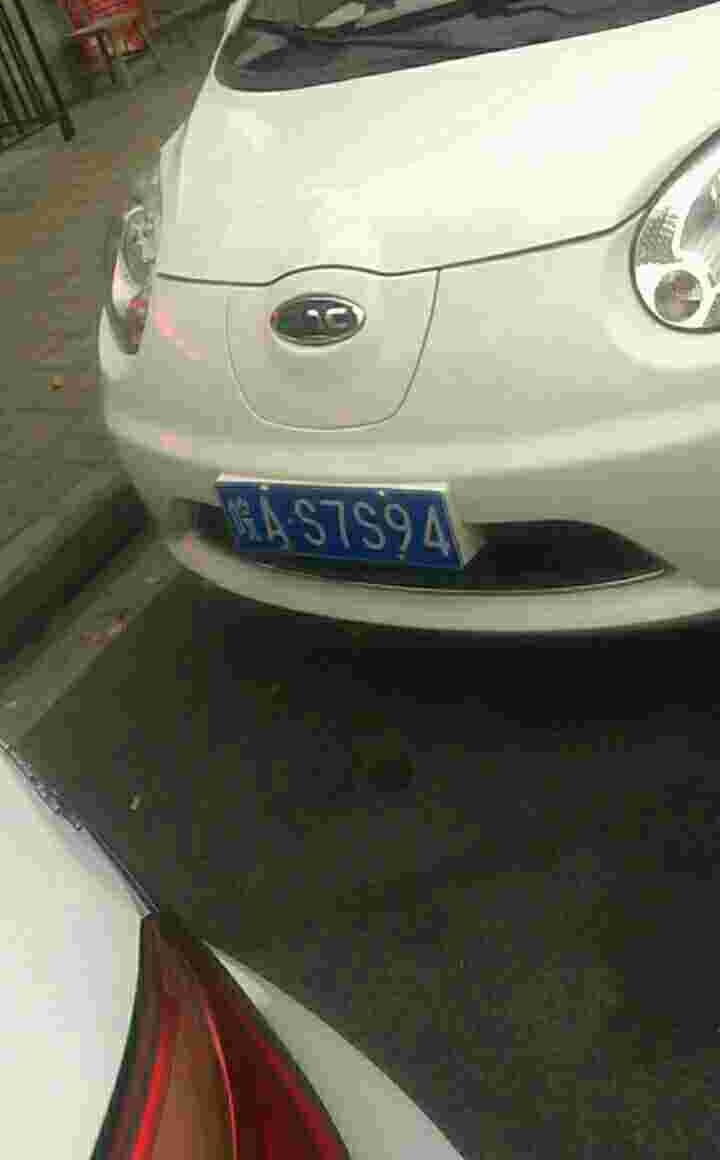license_plate: (215, 479, 452, 569)
